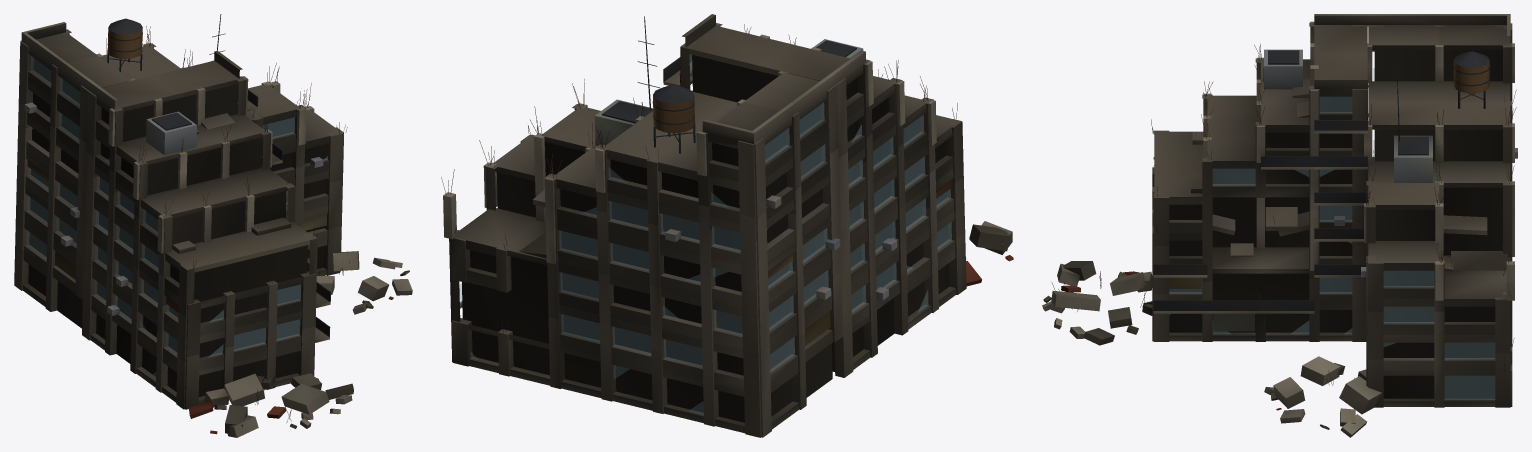
File: ruin_apartment_b.glb
3 views of the same model, side by side, from view 1: azimuth 30°, elevation 25°; view 2: azimuth 150°, elevation 25°; view 3: azimuth 270°, elevation 25° (orthographic). The views are drawn at different scales.
Parts seen in each view (by area): view 1: concrete_dark, concrete, glass, metal_bare, metal_dark, rebar, canvas, wood, brick; view 2: concrete_dark, concrete, glass, metal_dark, metal_bare, wood, rebar, canvas; view 3: concrete_dark, concrete, metal_dark, glass, metal_bare, canvas, rebar, wood.
Part boxes in pixels (x1,y1,x2,y2): concrete_dark: [14, 29, 409, 433]; concrete: [21, 22, 412, 437]; glass: [26, 56, 327, 379]; metal_bare: [24, 102, 323, 315]; metal_dark: [107, 14, 330, 336]; rebar: [106, 26, 349, 422]; canvas: [27, 160, 327, 312]; wood: [107, 27, 142, 59]; brick: [189, 283, 394, 434]; concrete_dark: [449, 23, 1010, 437]; concrete: [443, 14, 1012, 433]; glass: [459, 54, 951, 414]; metal_dark: [602, 16, 856, 153]; metal_bare: [594, 39, 897, 300]; wood: [653, 95, 694, 133]; rebar: [441, 24, 961, 332]; canvas: [768, 180, 951, 345]; concrete_dark: [1043, 22, 1512, 429]; concrete: [1042, 14, 1514, 437]; metal_dark: [1153, 50, 1490, 310]; glass: [1169, 68, 1494, 399]; metal_bare: [1264, 49, 1517, 277]; canvas: [1169, 277, 1254, 331]; rebar: [1051, 44, 1516, 385]; wood: [1453, 60, 1489, 93].
Size of what is drawn, in the model's own units: 29.93 by 24.76 by 36.66.
